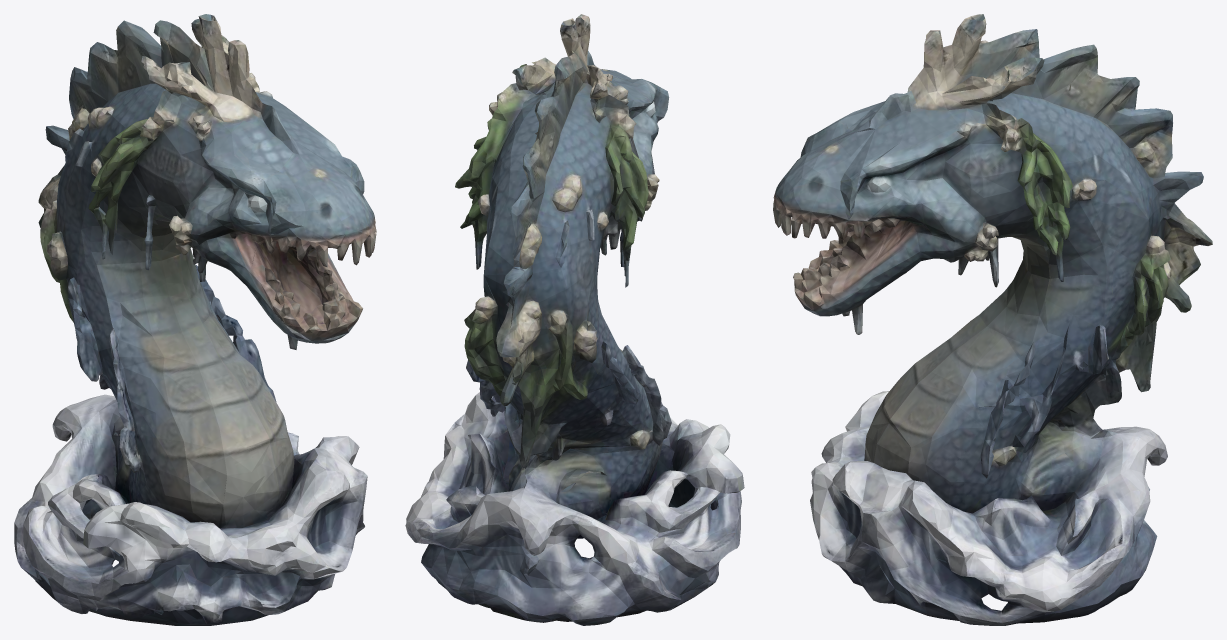
Rendered from maelstromHead.glb.
3 renders of one model, left to right at view 1: azimuth 30°, elevation 25°; view 2: azimuth 150°, elevation 25°; view 3: azimuth 270°, elevation 25°, orthographic. The views are drawn at different scales.
Visible parts, largest first — view 1: world; view 2: world; view 3: world.
Boxes of the visible parts, x1,y1,x2,y2 form: world: (14, 14, 376, 625); world: (405, 14, 744, 625); world: (773, 14, 1212, 625).
Bounding box in the file's own units: 0.552 × 0.9833 × 0.7068.
1 material, 1 textured.
